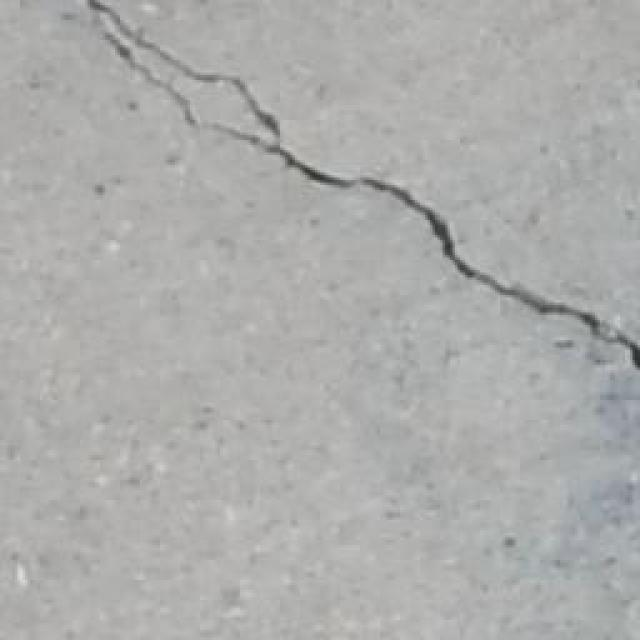concrete-crack: (85, 0, 640, 375)
